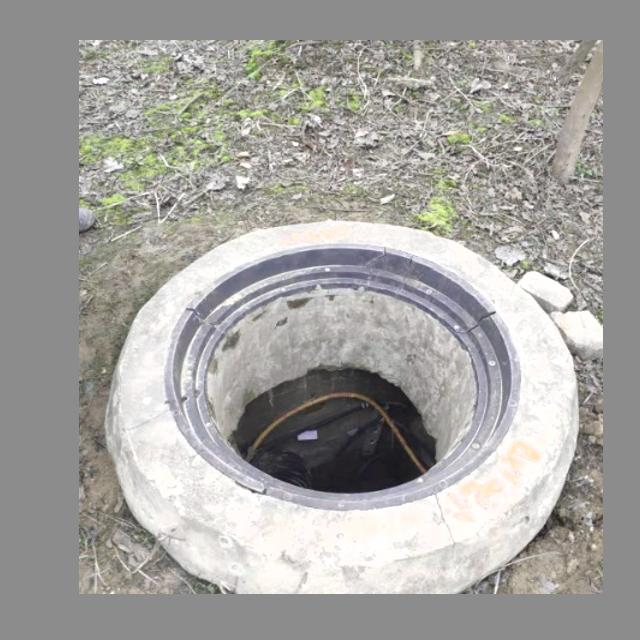lose: (168, 241, 521, 512)
